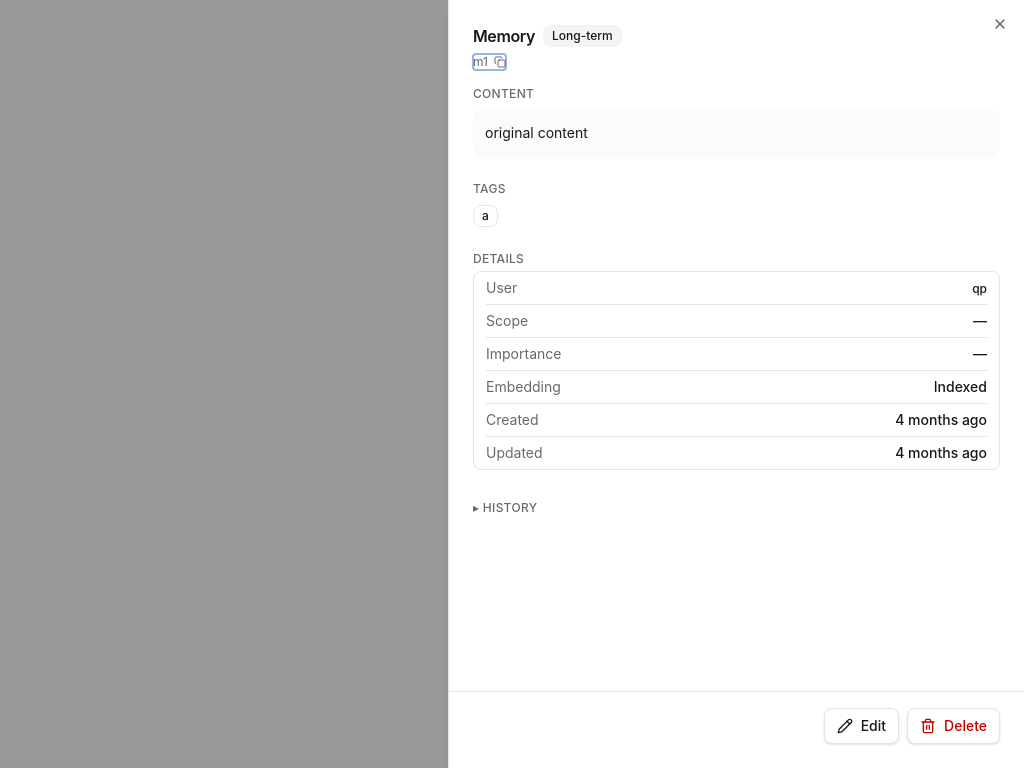
Test: MemoryDetailSheet — version conflict (WP2 T4) › shows the conflict panel with a Reload button when the save returns CONFLICT
What coordinates should you click on to do the following:
click the button "Edit"
I would click on:
 (861, 726)
Its box is [824, 708, 899, 744].
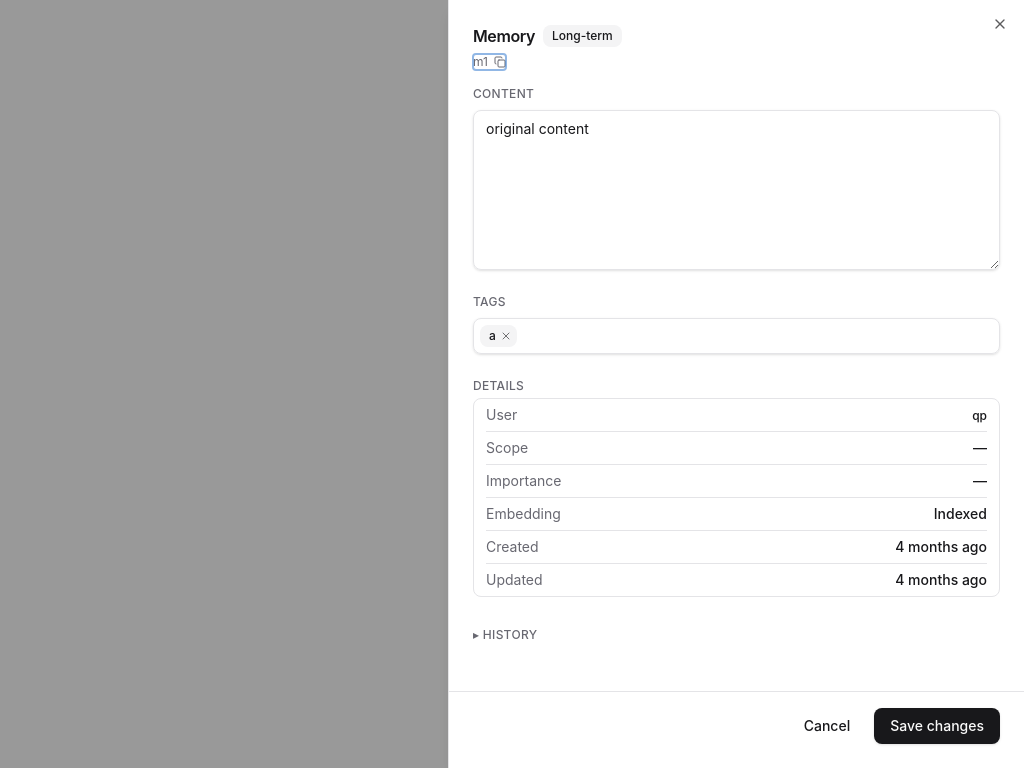
What coordinates should you click on to do the following:
click the button "Save changes"
I would click on:
 (937, 726)
Its box is [874, 708, 1000, 744].
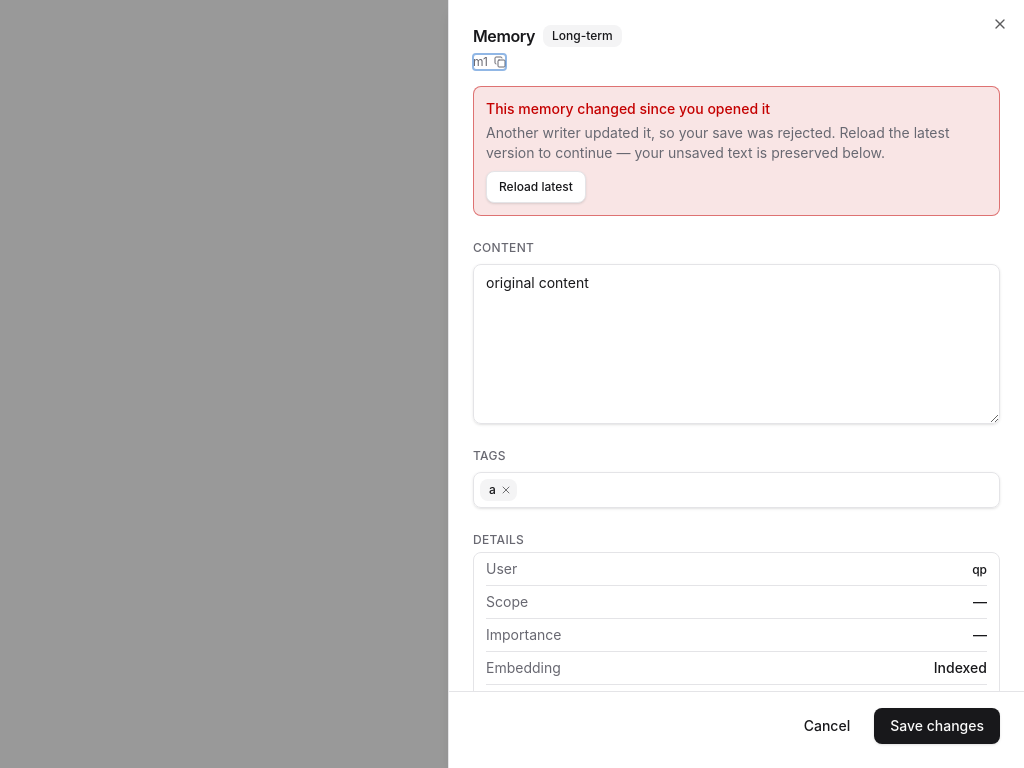
Check: the text "This memory changed since you opened it" is shown, box [486, 100, 770, 117]
Check: the button "Reload latest" is shown, box [486, 171, 586, 203]
